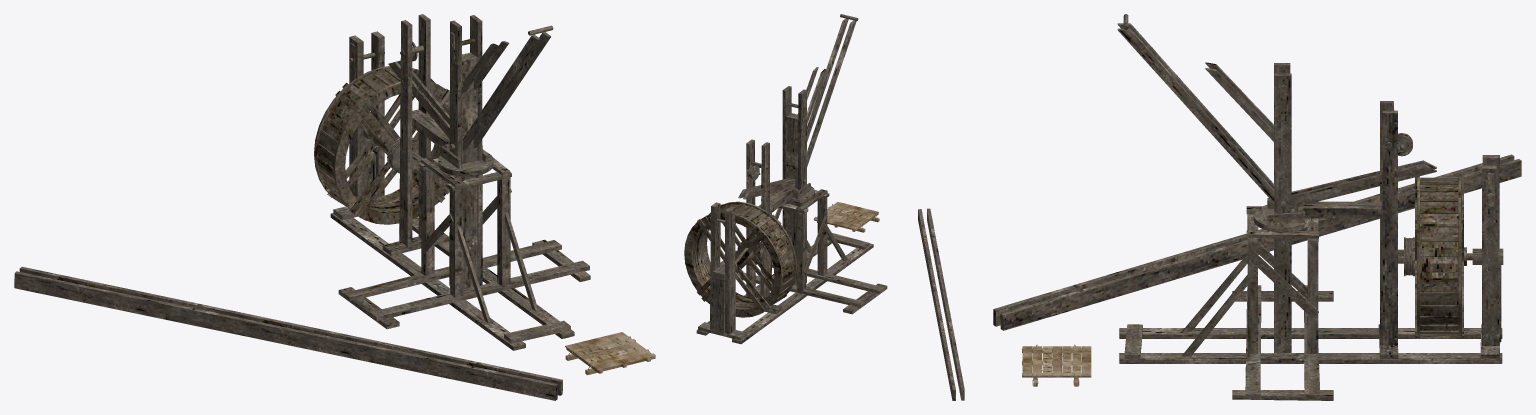
Rendered from grua hecha fea.fbx.
The picture shows the model from 3 angles, left to right: view 1: azimuth 30°, elevation 25°; view 2: azimuth 150°, elevation 25°; view 3: azimuth 270°, elevation 25°; orthographic projection. The views are drawn at different scales.
Visible parts, largest first — view 1: Cube.039, wheel.001, pallet.001; view 2: Cube.039, wheel.001, pallet.001; view 3: Cube.039, wheel.001, pallet.001.
Boxes of the visible parts, x1,y1,x2,y2 form: Cube.039: [14, 14, 590, 400]; wheel.001: [314, 66, 449, 224]; pallet.001: [565, 332, 655, 375]; Cube.039: [696, 14, 964, 400]; wheel.001: [684, 201, 796, 317]; pallet.001: [813, 202, 879, 232]; Cube.039: [993, 14, 1521, 400]; wheel.001: [1415, 174, 1472, 337]; pallet.001: [1022, 344, 1091, 386].
Size of the model in its own units: 18.42 by 12.36 by 17.9.
